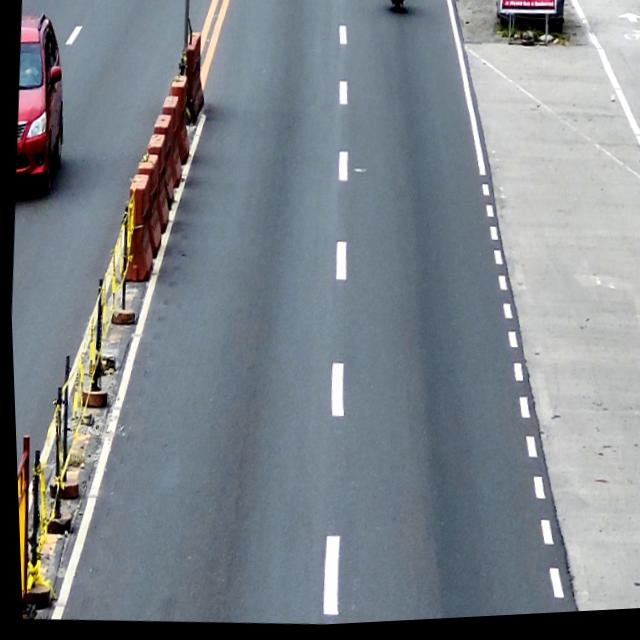Car: (9, 12, 72, 197)
